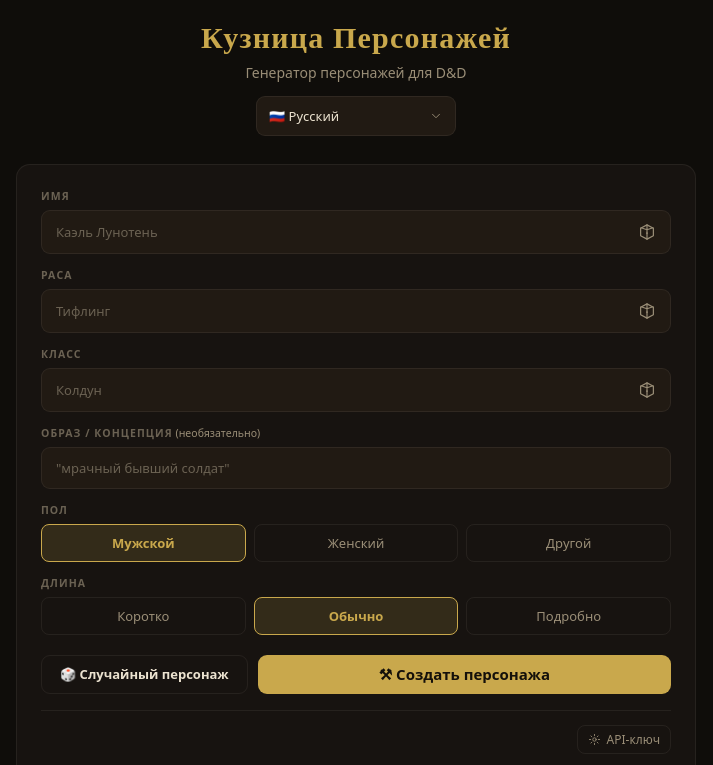
Test: character-forge › generates the active alternative tab and sends its mode
The image size is (713, 765).
Type "Kael" into the field with placeholder "Каэль Лунотень" at (340, 232), box [54,222,627,242]
(page scrolled)
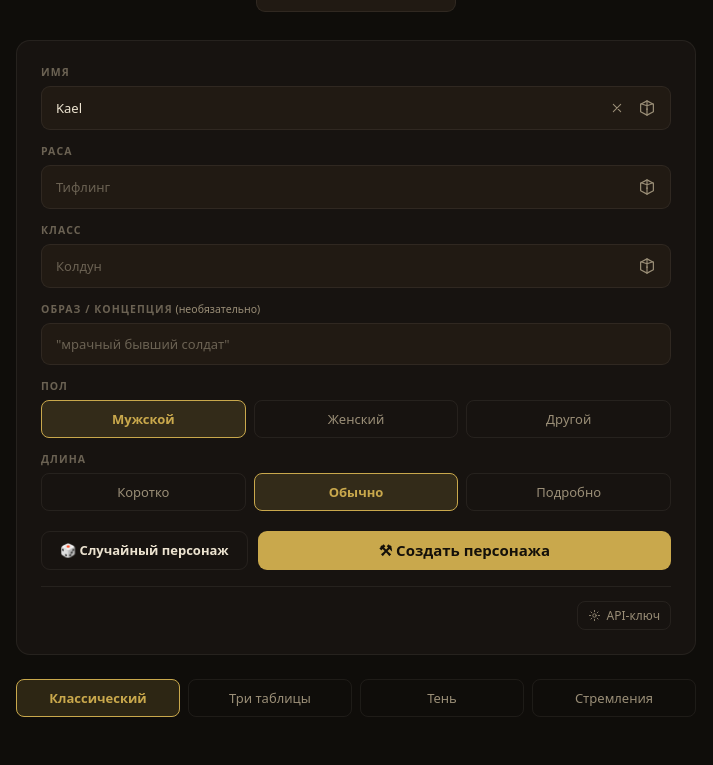
switch to the "drives" lens tab, then generate
Click the button "Стремления" at (614, 698), box [532,679,696,717]
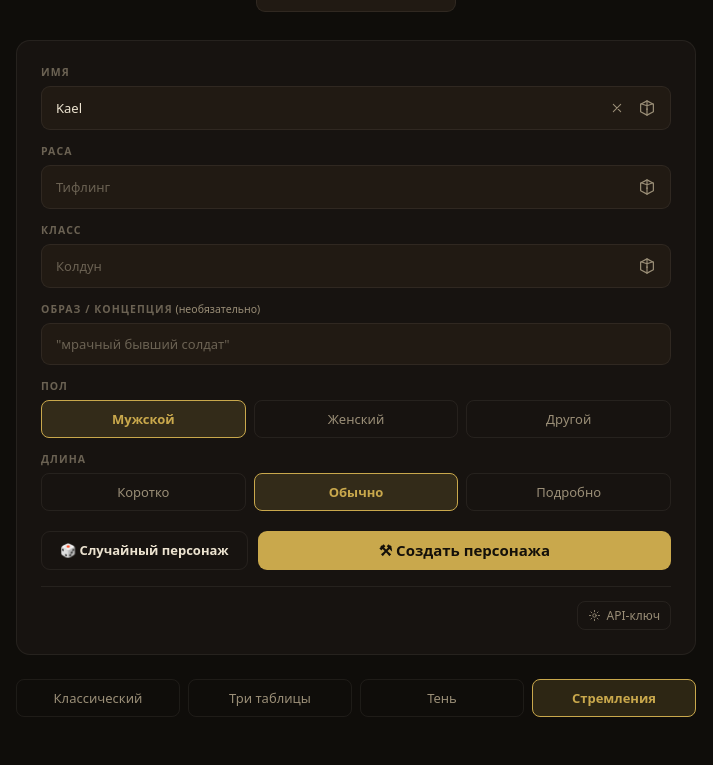
Click the button "⚒ Создать персонажа" at (464, 550), box [258,531,671,570]
(page scrolled)
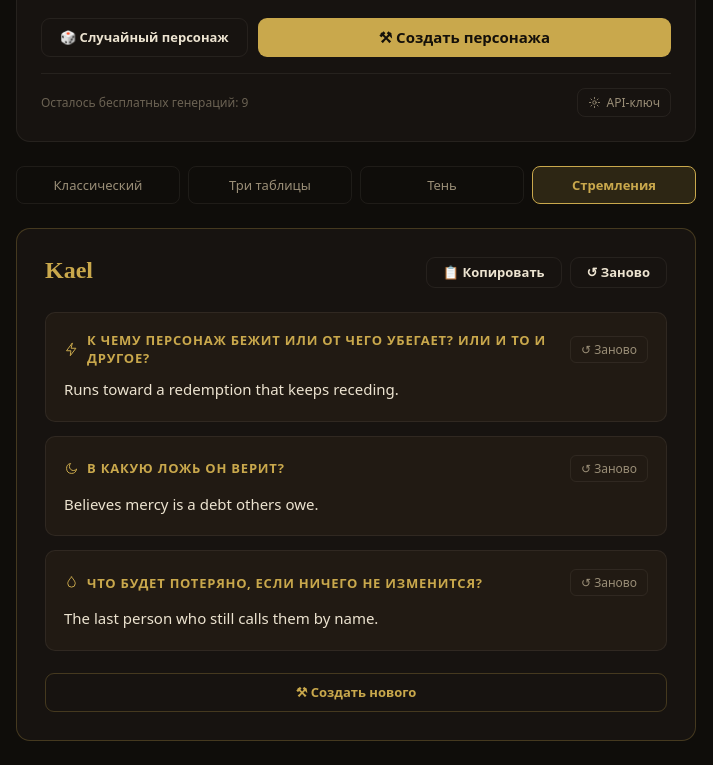
Result: the text "Runs toward a redemption that keeps receding." is shown at [64,379,399,399]
Result: the text "The last person who still calls them by name." is shown at [64,608,378,628]
